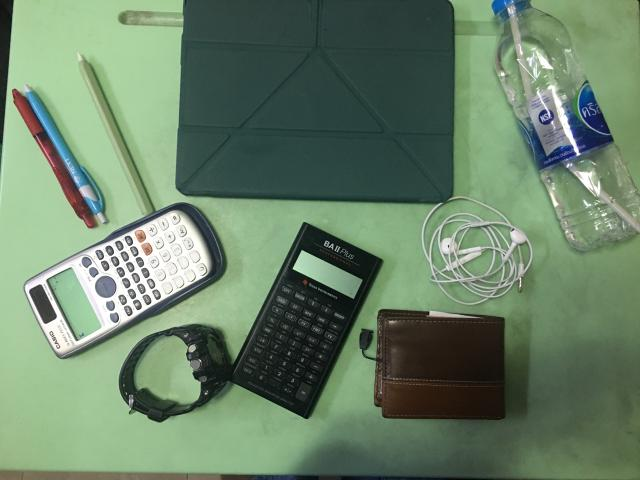Pen: (12, 89, 96, 228), (24, 85, 108, 222)
Wallet: (374, 309, 505, 419)
Watch: (119, 324, 231, 422)
bottle: (492, 0, 640, 251)
wire: (421, 196, 532, 305)
